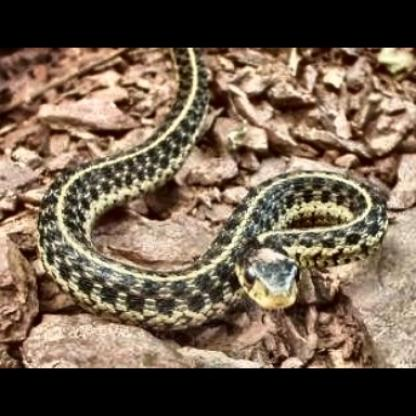Snake: (36, 74, 388, 330)
